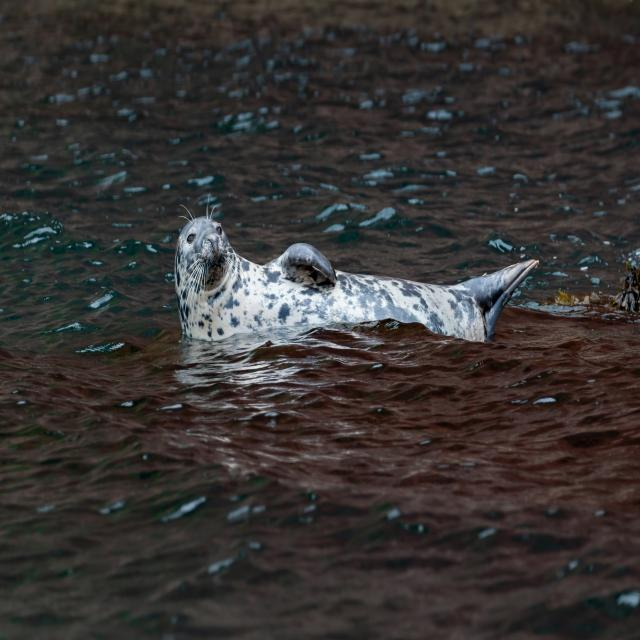shark: (174, 216, 538, 341)
